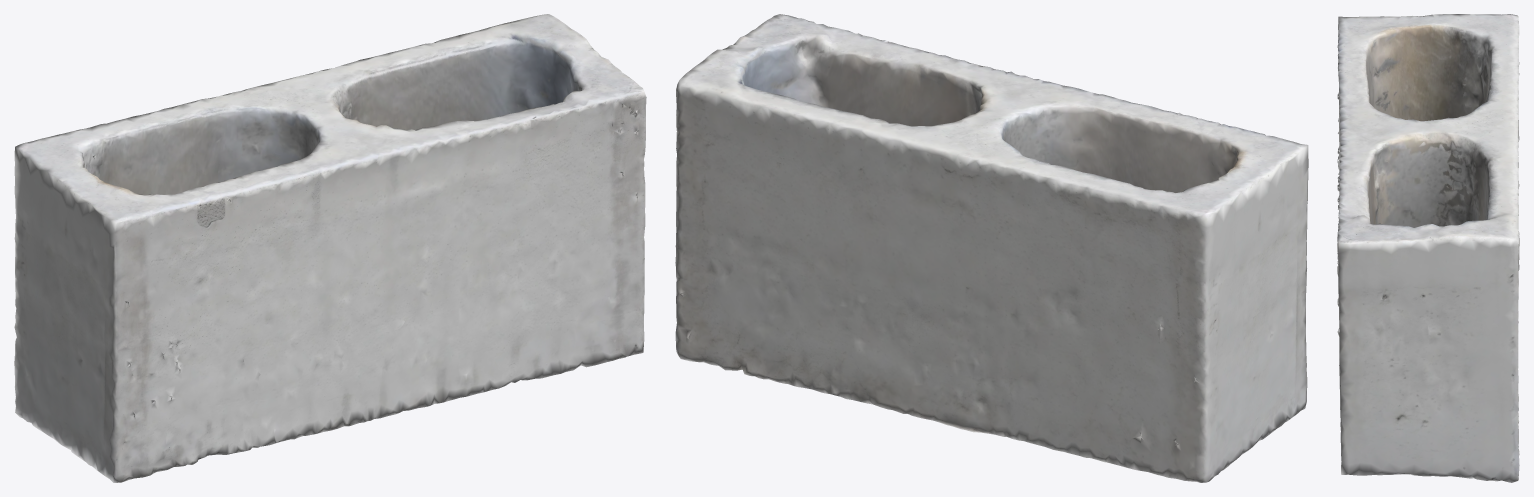
Rendered from Cinder Block_DKB.glb.
3 views of the same model, side by side, from view 1: azimuth 30°, elevation 25°; view 2: azimuth 150°, elevation 25°; view 3: azimuth 270°, elevation 25° (orthographic). The views are drawn at different scales.
Bounding box in the file's own units: 1.99 × 1.02 × 0.6702.
1 material, 1 textured.
